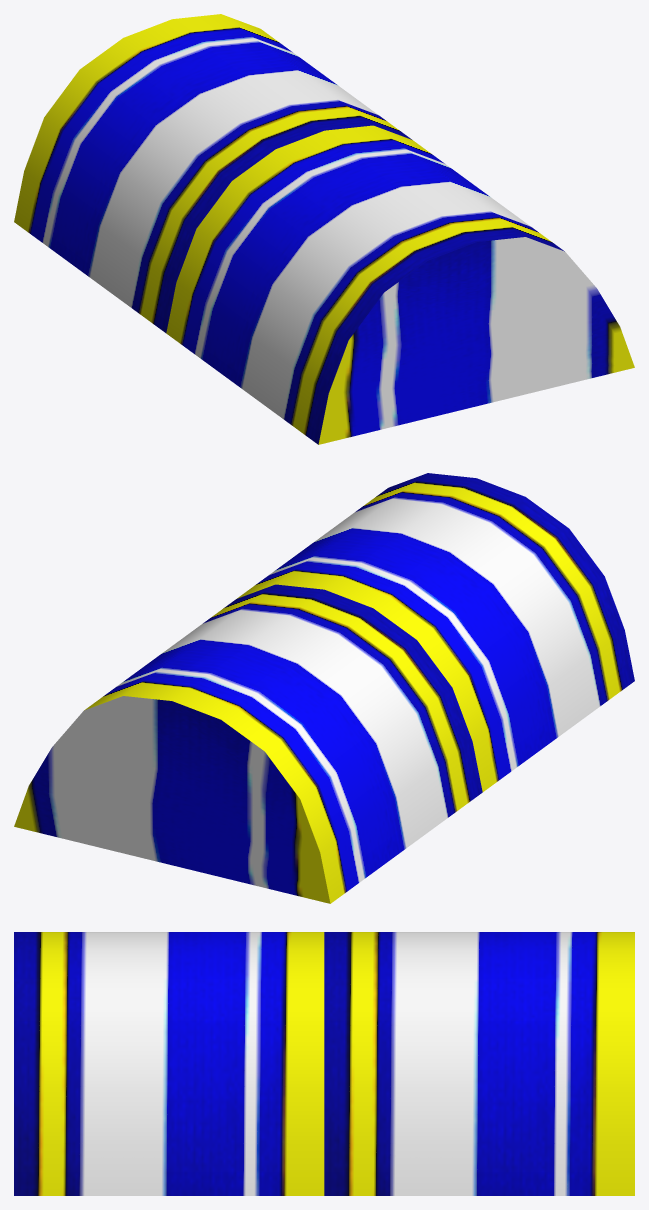
The model's file is canopi 2.FBX.
3 renders of one model, top to bottom at view 1: azimuth 30°, elevation 25°; view 2: azimuth 150°, elevation 25°; view 3: azimuth 270°, elevation 25°, orthographic.
Parts seen in each view (by area): view 1: Cylinder001; view 2: Cylinder001; view 3: Cylinder001.
Part boxes in pixels (box(x1,y1,x2,y2)): Cylinder001: box(14, 14, 634, 444); Cylinder001: box(14, 473, 634, 903); Cylinder001: box(14, 932, 634, 1195).
Size of the model in its own units: 24 by 11.9 by 40.
